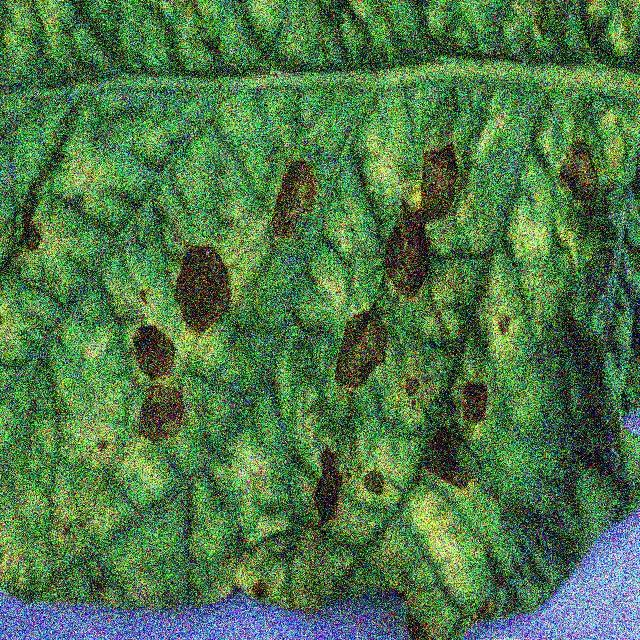leaf_spot: (7, 4, 639, 635)
